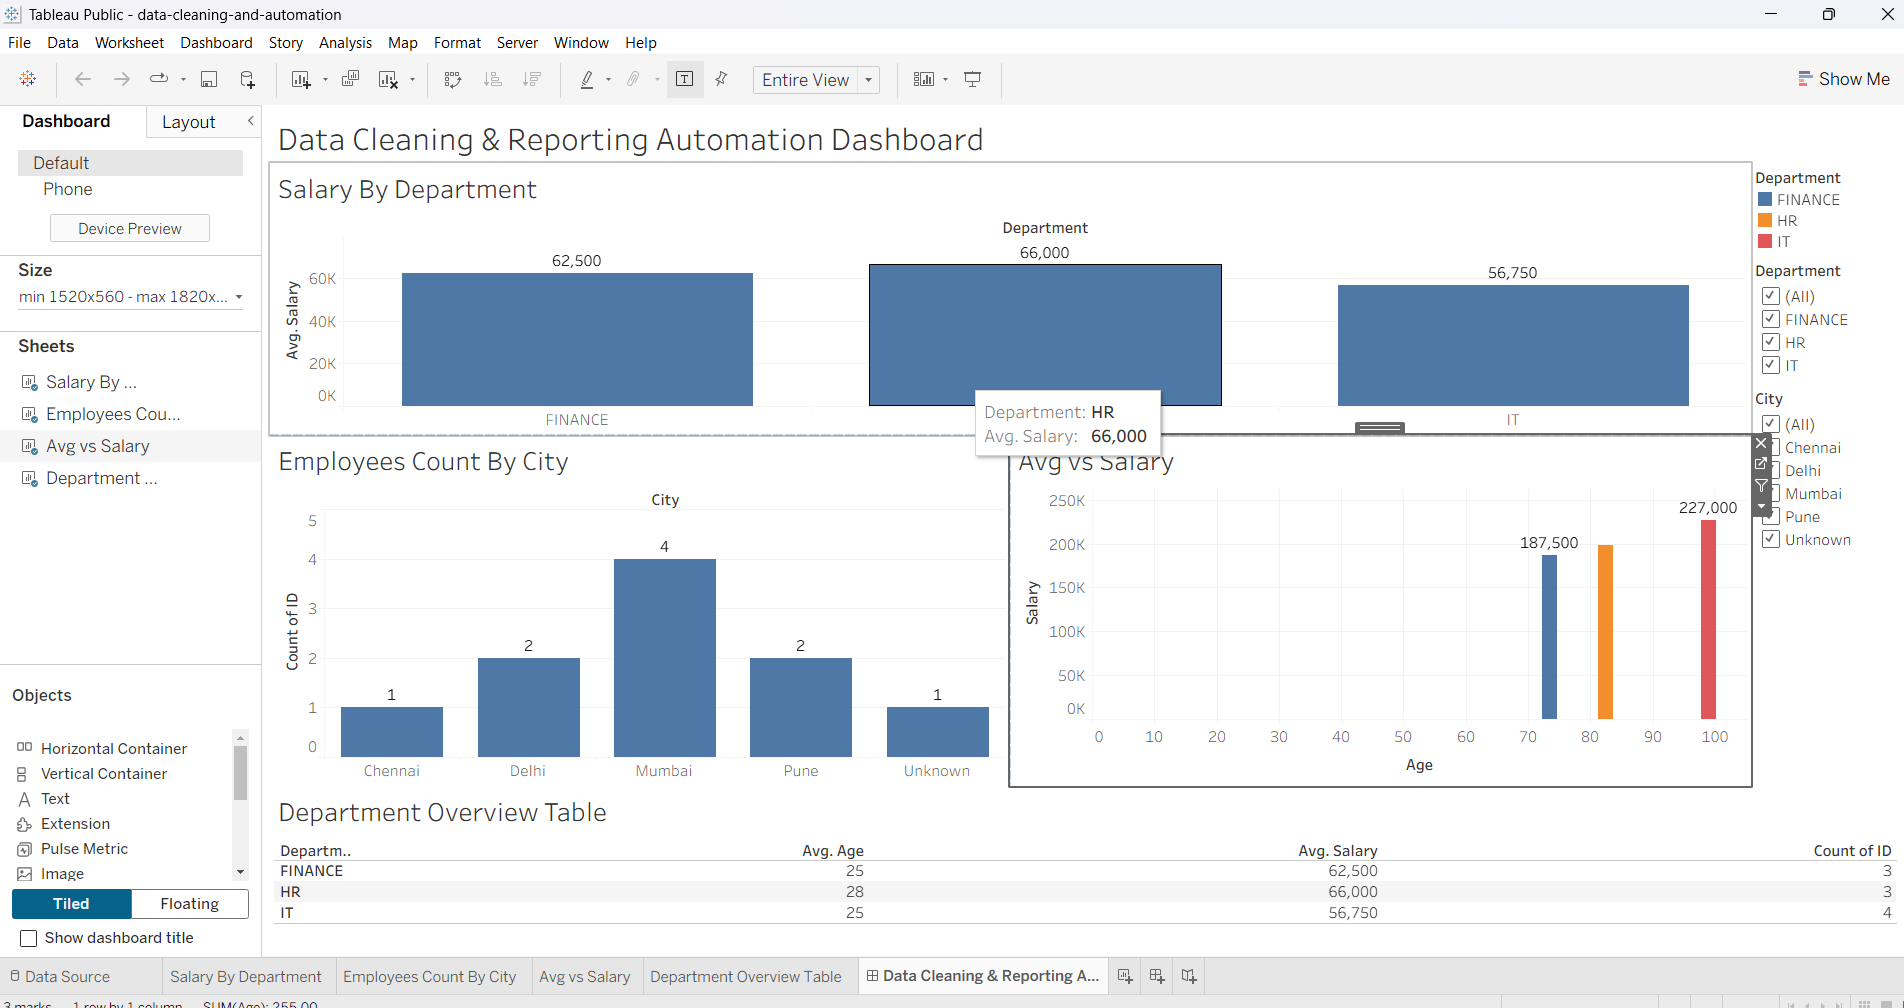

Layout of this report page (visuals, bound fields, positions):
{"tool":"tableau","page":{"name":"Data Cleaning & Reporting Automation Dashboard","canvas":[1000,1000],"units":"permille","ordinal":0},"visuals":[{"type":"title","box":[4.8,9.4,990.3,58.8]},{"type":"worksheet","title":"Salary By Department","mark":"Bar","rows":["Salary"],"cols":["Department"],"box":[4.8,68.2,893.8,319.7]},{"type":"legend","title":"Avg vs Salary","param":"[federated.17718p20fdg4rh1ef7apw0prwqii].[none:Department:nk]","box":[898.6,68.2,96.6,109.3]},{"type":"filter","title":"Avg vs Salary","param":"[federated.17718p20fdg4rh1ef7apw0prwqii].[none:Department:nk]","box":[898.6,177.4,96.6,150.4]},{"type":"filter","title":"Employees Count By City","param":"[federated.17718p20fdg4rh1ef7apw0prwqii].[none:City:nk]","box":[898.6,327.8,96.6,204.5]},{"type":"worksheet","title":"Employees Count By City","mark":"Bar","rows":["ID"],"cols":["City"],"box":[4.8,387.9,446.8,412.7]},{"type":"worksheet","title":"Avg vs Salary","mark":"Bar","rows":["Salary"],"cols":["Age"],"box":[451.6,387.9,447,412.7]},{"type":"worksheet","title":"Department Overview Table","mark":"Automatic","rows":["Department"],"box":[4.8,800.6,990.3,190]}]}

Visuals, with their boxes on the dashboard's canvas, which has no fixed pixel size, in thousandths of its width and height (x1, y1, x2, y2). These are canvas units, not pixel positions in the 1904x1008 screenshot, which may show the page scaled, cropped or inside an application window:
title: {"x1": 5, "y1": 9, "x2": 995, "y2": 68}
"Salary By Department" worksheet (Bar marks): {"x1": 5, "y1": 68, "x2": 899, "y2": 388}
"Avg vs Salary" legend: {"x1": 899, "y1": 68, "x2": 995, "y2": 178}
"Avg vs Salary" filter: {"x1": 899, "y1": 177, "x2": 995, "y2": 328}
"Employees Count By City" filter: {"x1": 899, "y1": 328, "x2": 995, "y2": 532}
"Employees Count By City" worksheet (Bar marks): {"x1": 5, "y1": 388, "x2": 452, "y2": 801}
"Avg vs Salary" worksheet (Bar marks): {"x1": 452, "y1": 388, "x2": 899, "y2": 801}
"Department Overview Table" worksheet: {"x1": 5, "y1": 801, "x2": 995, "y2": 991}
